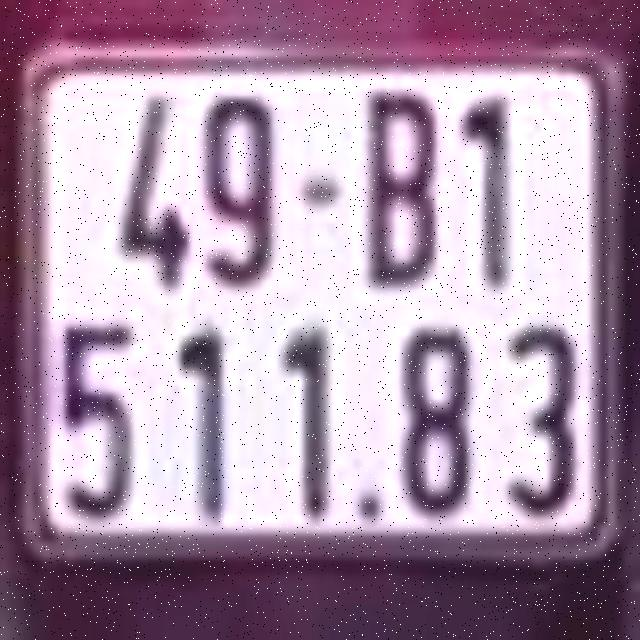1: (455, 78, 529, 290), (278, 316, 338, 519), (175, 319, 232, 522)
3: (502, 304, 582, 519)
4: (114, 90, 194, 292)
5: (58, 318, 138, 518)
8: (398, 309, 477, 516)
9: (201, 86, 278, 291)
B: (358, 76, 444, 291)
